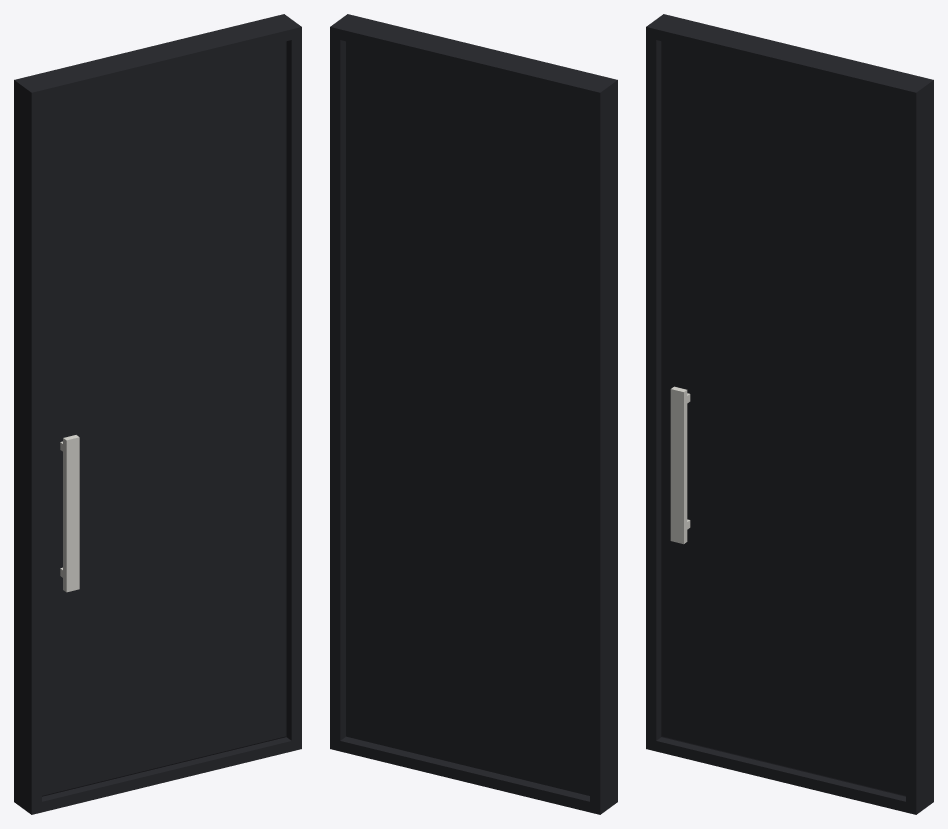
The model's file is SM_Opening_Door08423_Black_01.gltf.
The picture shows the model from 3 angles, left to right: view 1: azimuth 30°, elevation 25°; view 2: azimuth 150°, elevation 25°; view 3: azimuth 330°, elevation 25°; orthographic projection.
Visible parts, largest first — view 1: SM_Opening_Door08423_Black_01; view 2: SM_Opening_Door08423_Black_01; view 3: SM_Opening_Door08423_Black_01.
Part boxes in pixels (x1,y1,x2,y2): SM_Opening_Door08423_Black_01: [14, 14, 301, 814]; SM_Opening_Door08423_Black_01: [330, 14, 617, 814]; SM_Opening_Door08423_Black_01: [646, 14, 933, 814].
Size of the model in its own units: 0.93 by 2.38 by 0.135.
Materials: 1 (1 with a texture image).
